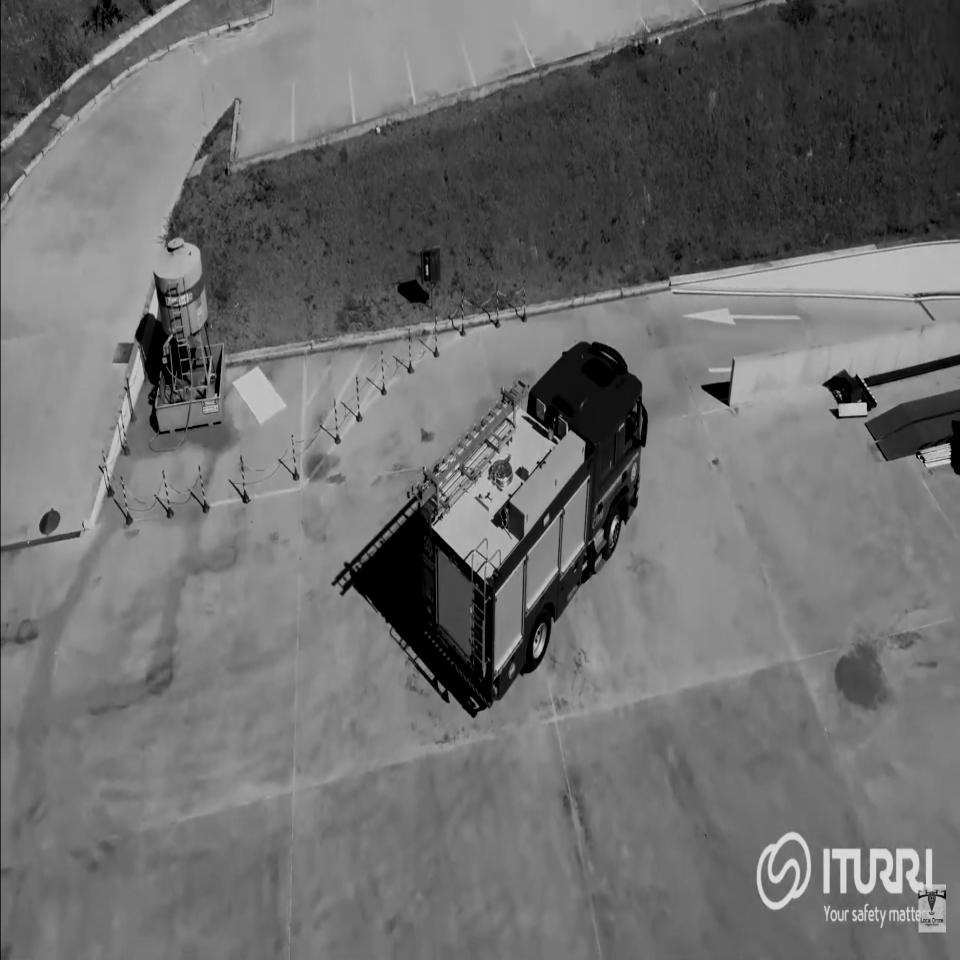bombeiro: (406, 334, 650, 712)
